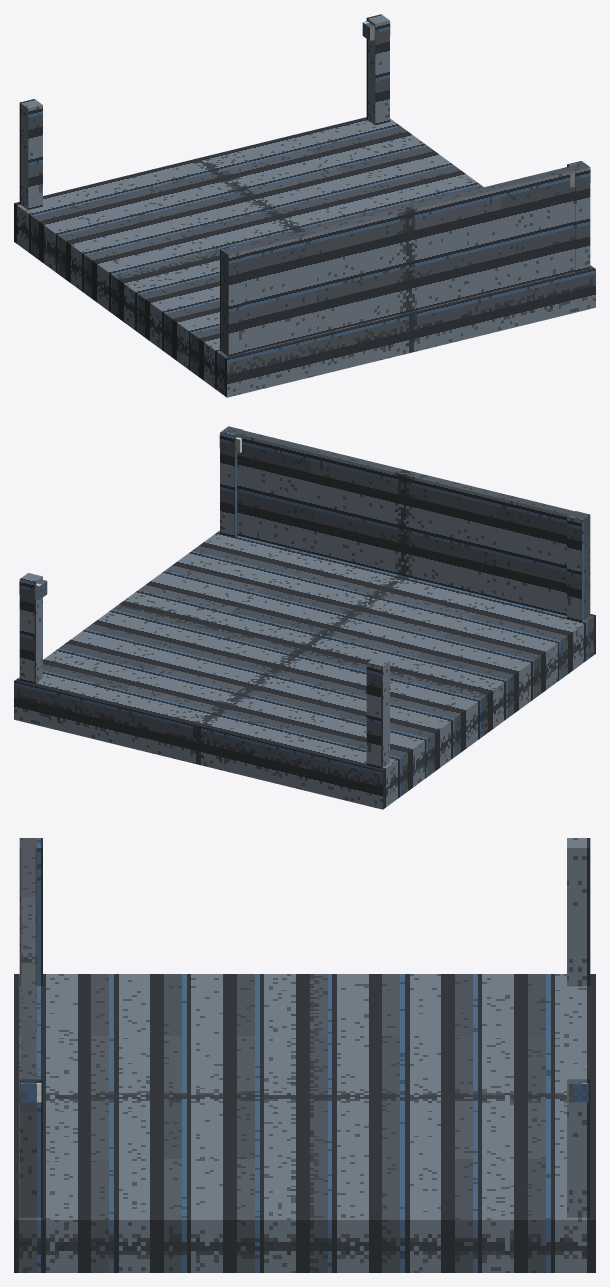
File: sp_hoist_car.glb
The picture shows the model from 3 angles, top to bottom: view 1: azimuth 30°, elevation 25°; view 2: azimuth 150°, elevation 25°; view 3: azimuth 270°, elevation 25°; orthographic projection. The views are drawn at different scales.
Visible parts, largest first — view 1: hoist_deck, hoist_back, hoist_channel_-1-1, hoist_channel_-11, hoist_channel_11, hoist_channel_1-1; view 2: hoist_deck, hoist_back, hoist_channel_-11, hoist_channel_-1-1, hoist_channel_11, hoist_channel_1-1; view 3: hoist_deck, hoist_channel_-11, hoist_back, hoist_channel_1-1, hoist_channel_11, hoist_channel_-1-1.
Part boxes in pixels (x1,y1,x2,y2): hoist_deck: [14, 117, 595, 397]; hoist_back: [238, 164, 580, 352]; hoist_channel_-1-1: [220, 245, 243, 356]; hoist_channel_-11: [19, 99, 42, 209]; hoist_channel_11: [366, 14, 389, 125]; hoist_channel_1-1: [567, 161, 590, 271]; hoist_deck: [14, 530, 595, 809]; hoist_back: [229, 428, 583, 615]; hoist_channel_-11: [366, 657, 389, 768]; hoist_channel_-1-1: [567, 511, 590, 621]; hoist_channel_11: [19, 573, 42, 683]; hoist_channel_1-1: [220, 426, 242, 537]; hoist_deck: [14, 974, 595, 1272]; hoist_channel_-11: [567, 838, 590, 986]; hoist_back: [21, 841, 35, 1075]; hoist_channel_1-1: [19, 1069, 42, 1217]; hoist_channel_11: [567, 1069, 590, 1217]; hoist_channel_-1-1: [19, 838, 42, 986].
Bounding box in the file's own units: 4 × 1.48 × 4.
2 materials, 2 textured.
